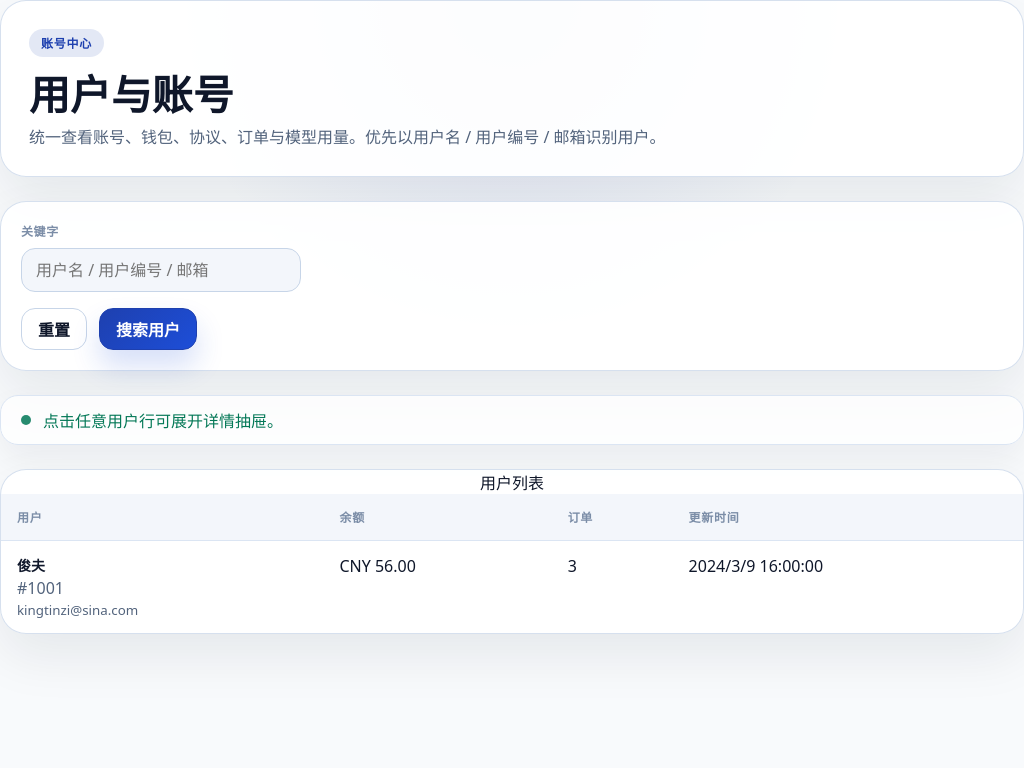
Test case: UsersPage › searches by keyword, shows username and number, and opens the detail drawer
In the field with placeholder "用户名 / 用户编号 / 邮箱": (161, 270) [21,248,301,292], type "俊夫"
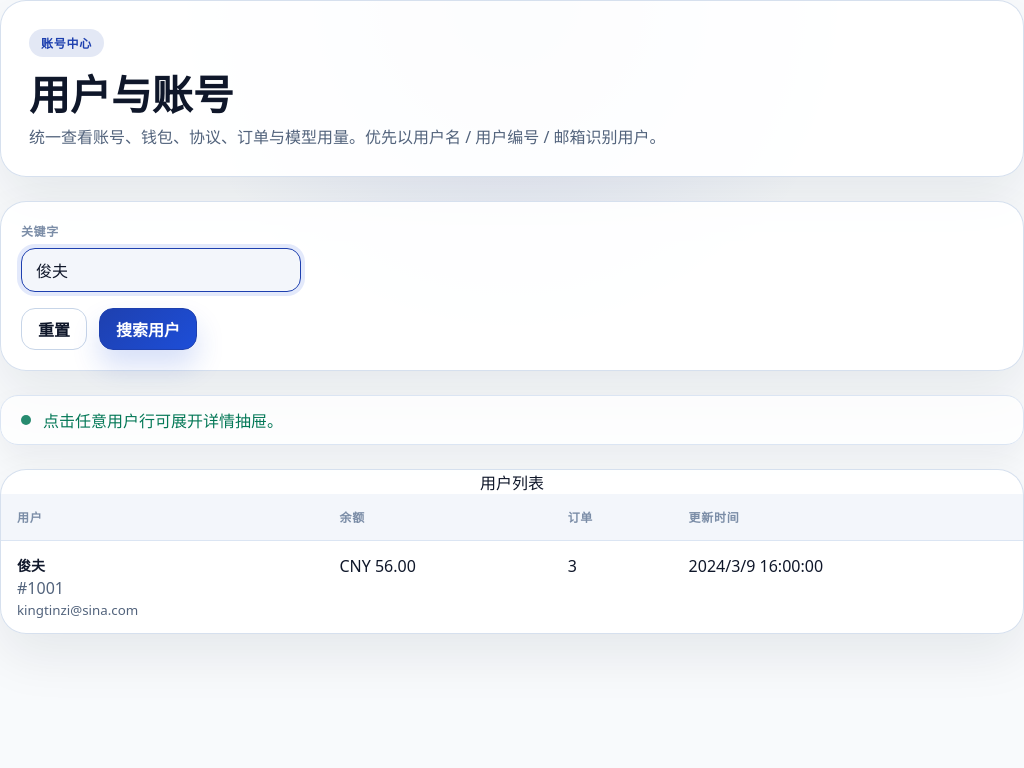
Click the button "搜索用户": (148, 329) [99,308,197,350]
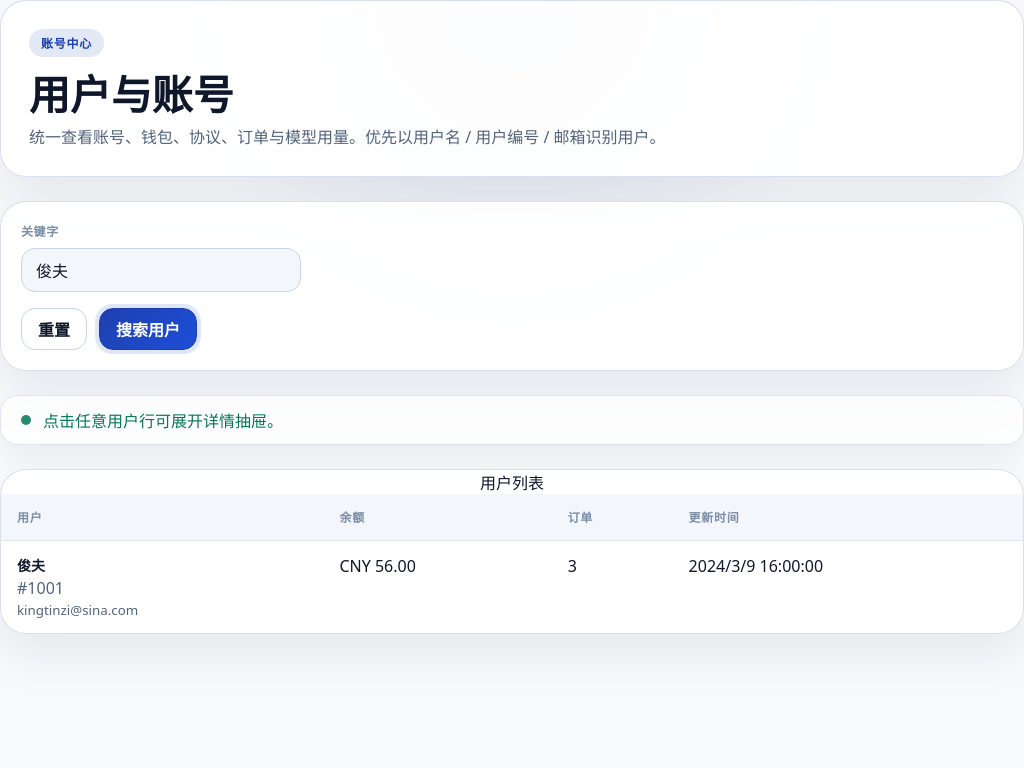
expect the text "#1001" is shown: met, box [17,577,64,599]
Click the text "俊夫": (31, 566) [17,556,45,575]
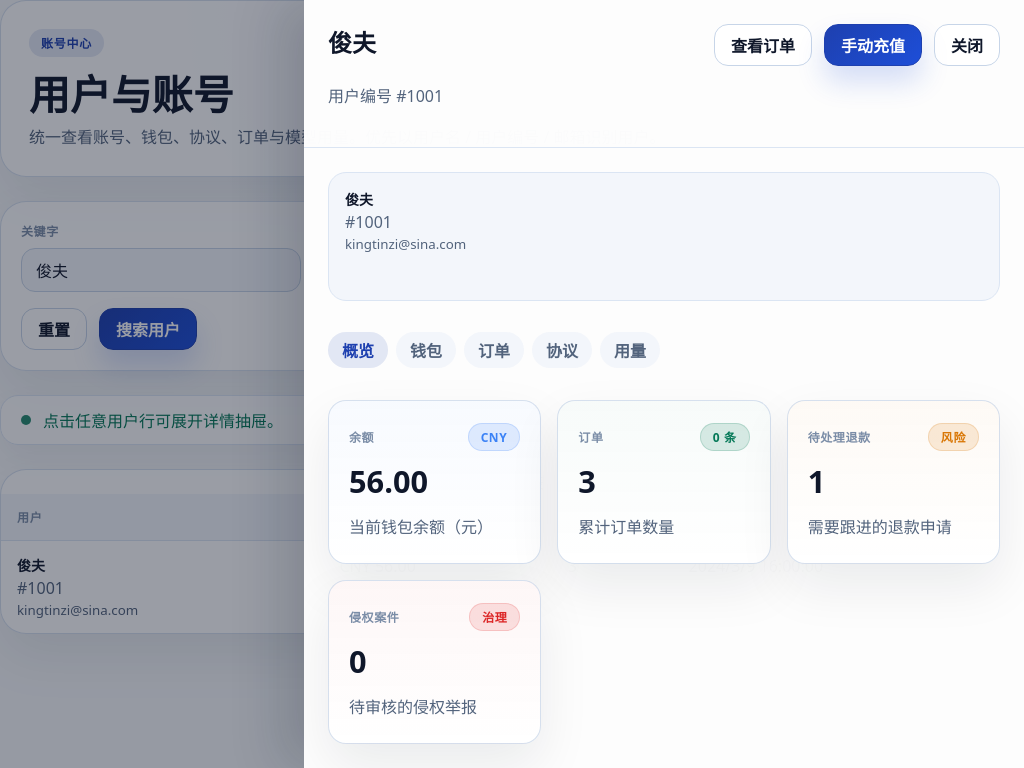
expect the dialog "俊夫" is shown: met
expect the text "56.00" is shown: met, box [349,460,428,502]
expect the tab "概览" is shown: met, box [328,332,388,368]
